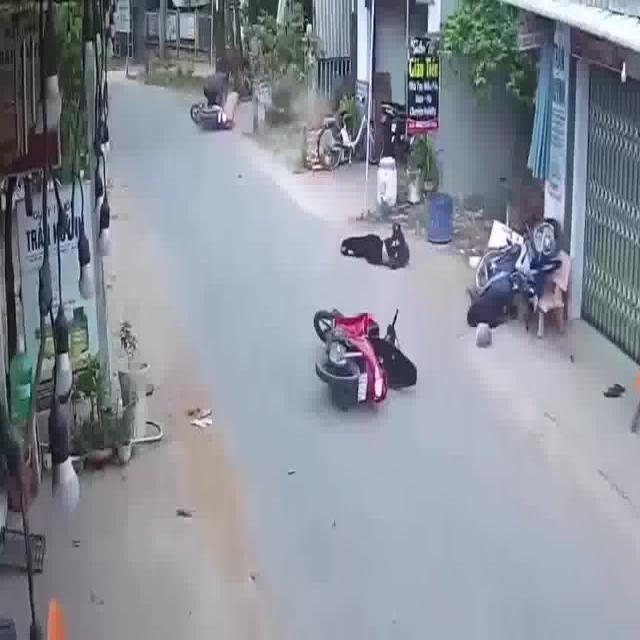multiple_accident: (307, 205, 569, 424), (186, 58, 243, 144)
